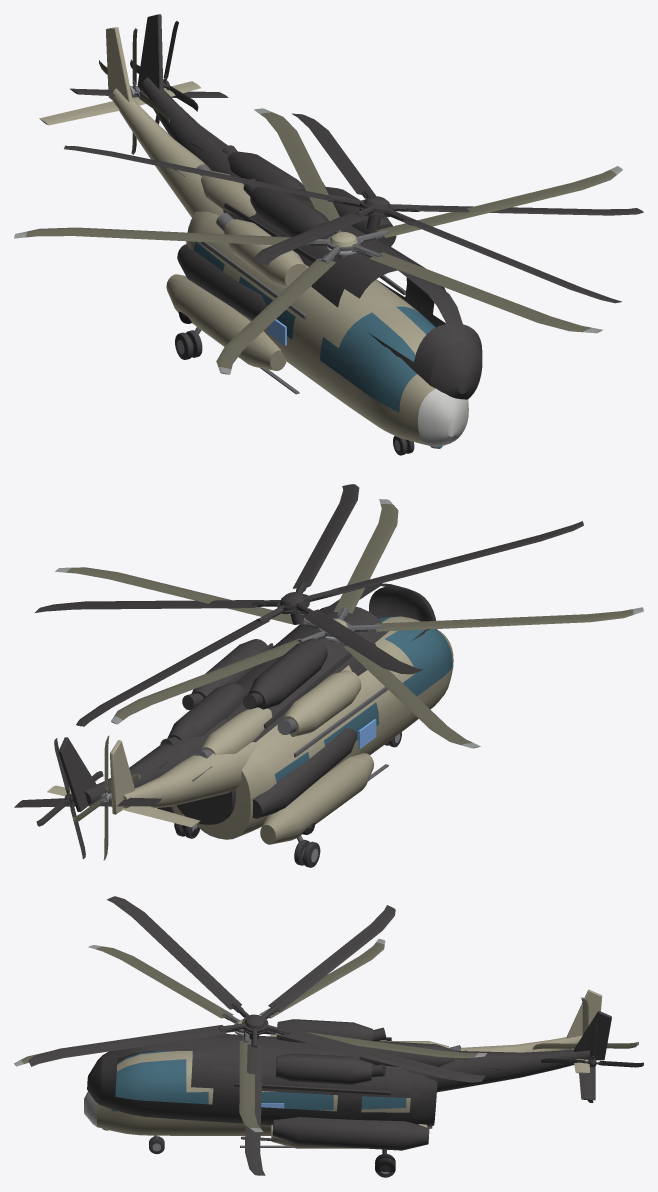
The model's file is heavyLift__mch_101.glb.
3 views of the same model, one above another, from view 1: azimuth 30°, elevation 25°; view 2: azimuth 150°, elevation 25°; view 3: azimuth 270°, elevation 25° (orthographic). The views are drawn at different scales.
Parts seen in each view (by area): view 1: Wreck, Fuselage_Mesh, Rotor_Main_Mesh, Engines_Mesh, Landing_Gear_Mesh, Rotor_Tail_Mesh; view 2: Wreck, Fuselage_Mesh, Rotor_Main_Mesh, Engines_Mesh, Landing_Gear_Mesh, Rotor_Tail_Mesh; view 3: Wreck, Fuselage_Mesh, Rotor_Main_Mesh, Rotor_Tail_Mesh.
Part boxes in pixels (bbox=[...]): Wreck: bbox=[64, 14, 643, 399]; Fuselage_Mesh: bbox=[39, 27, 468, 448]; Rotor_Main_Mesh: bbox=[14, 108, 622, 374]; Engines_Mesh: bbox=[196, 164, 307, 287]; Landing_Gear_Mesh: bbox=[175, 327, 414, 455]; Rotor_Tail_Mesh: bbox=[99, 28, 169, 154]; Wreck: bbox=[14, 484, 583, 859]; Fuselage_Mesh: bbox=[47, 616, 453, 844]; Rotor_Main_Mesh: bbox=[55, 499, 643, 748]; Engines_Mesh: bbox=[194, 670, 361, 758]; Landing_Gear_Mesh: bbox=[175, 732, 401, 867]; Rotor_Tail_Mesh: bbox=[73, 735, 140, 860]; Wreck: bbox=[28, 896, 643, 1175]; Fuselage_Mesh: bbox=[84, 989, 602, 1148]; Rotor_Main_Mesh: bbox=[14, 939, 487, 1132]; Rotor_Tail_Mesh: bbox=[532, 997, 638, 1049].
Size of what is drawn, in the model's own units: 17.86 by 7.96 by 23.66.
